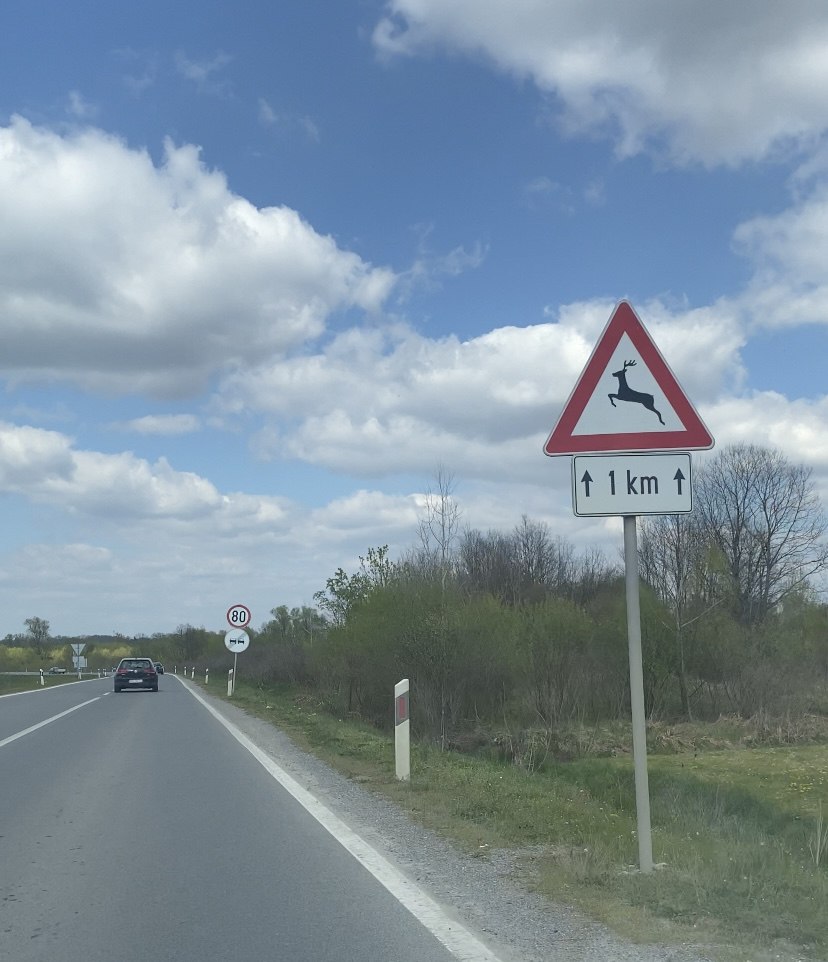Divljač na cesti: (544, 300, 714, 456)
